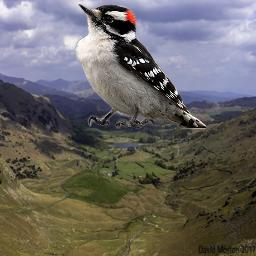Woodpecker: (74, 4, 206, 129)
